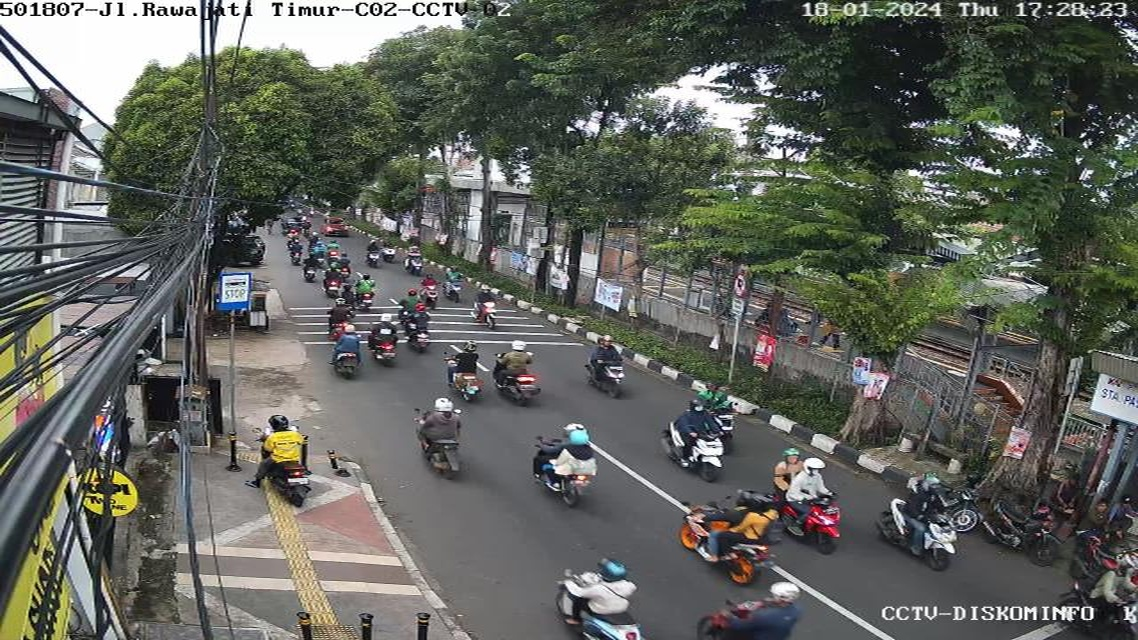Gerobak: (247, 280, 276, 334)
